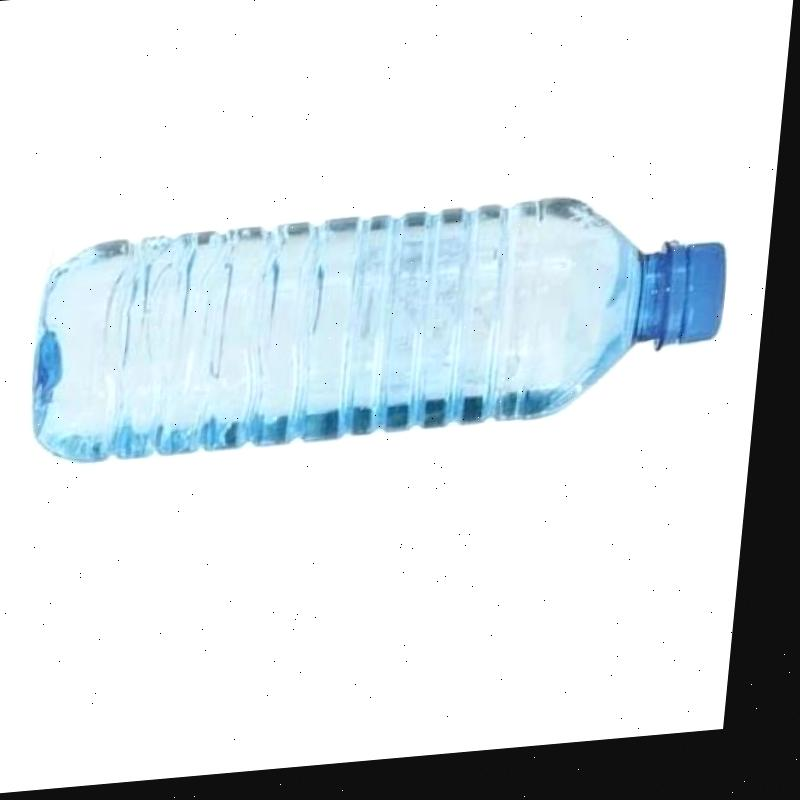botella: (35, 197, 738, 469)
